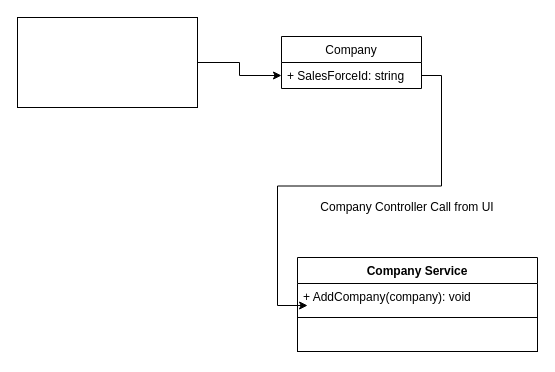
Some shapes in this 555 by 372 pixel diagram are drawn without their labels. The centre of each missing label's shape, as x and y in pixels:
"+ UpdateCompany(company): void" goes at point (417, 334).
"SalesForceDetail PK uniqueId varchar(50) SalesForceId" goes at point (107, 62).
